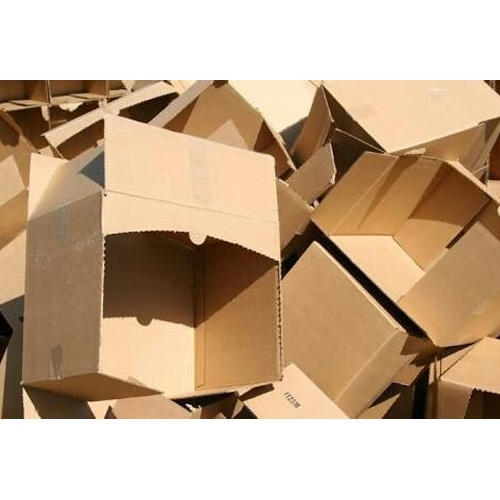paper: (14, 105, 304, 414), (302, 142, 500, 349), (245, 235, 449, 416), (291, 75, 498, 185)
